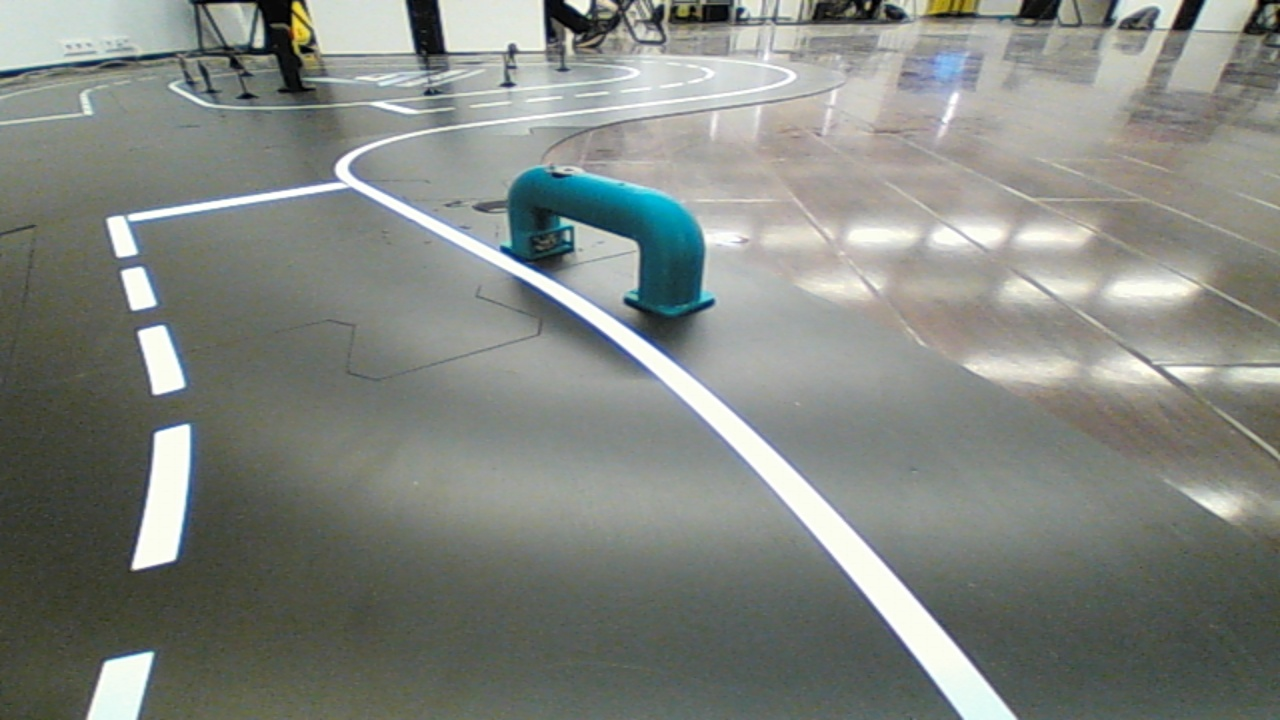Pedestrian crossing: (486, 146, 727, 335)
